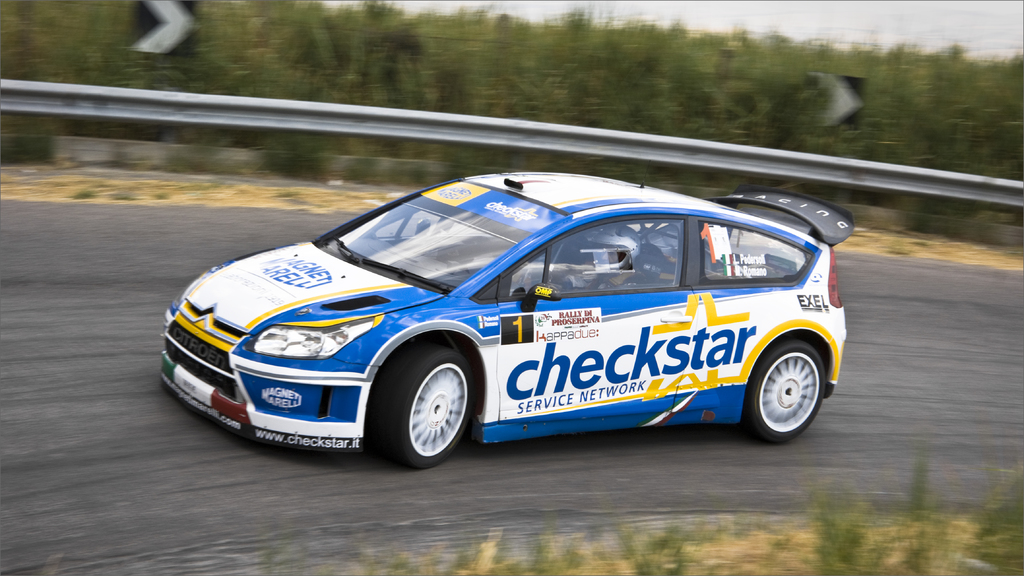Car: (156, 170, 856, 469)
